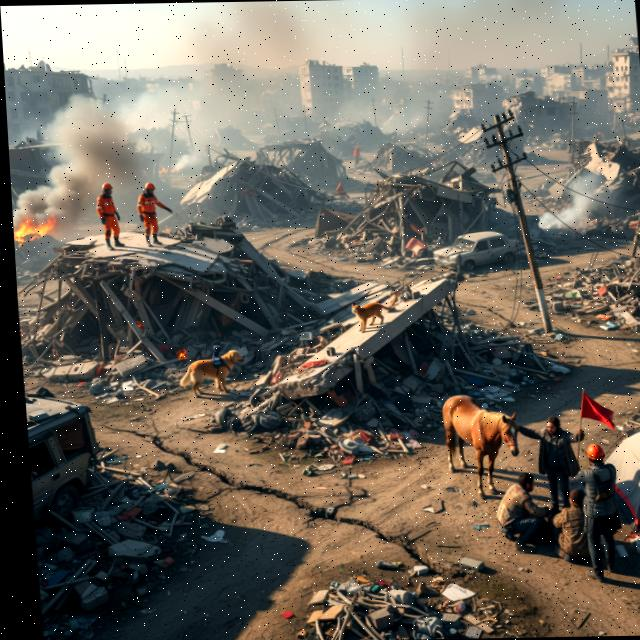cat: (344, 296, 401, 336)
civilian: (572, 432, 634, 584), (515, 406, 589, 512), (490, 464, 551, 548), (546, 480, 594, 570)
dog: (175, 347, 255, 399)
horse: (425, 384, 525, 507)
rescuer: (89, 177, 135, 254), (130, 175, 179, 247)
